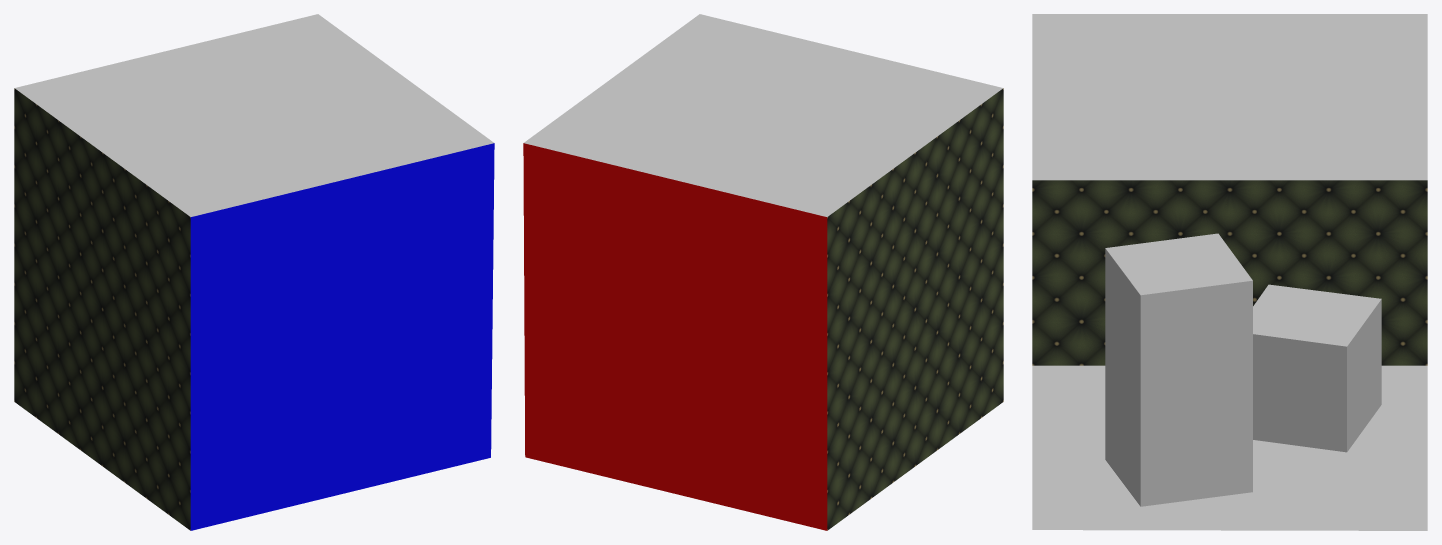
Rendered from cornell_chesterfield.obj.
The picture shows the model from 3 angles, left to right: view 1: azimuth 30°, elevation 25°; view 2: azimuth 150°, elevation 25°; view 3: azimuth 270°, elevation 25°; orthographic projection. The views are drawn at different scales.
Bounding box in the file's own units: 1.99 × 1.96 × 2.
Materials: 4 (1 with a texture image).
